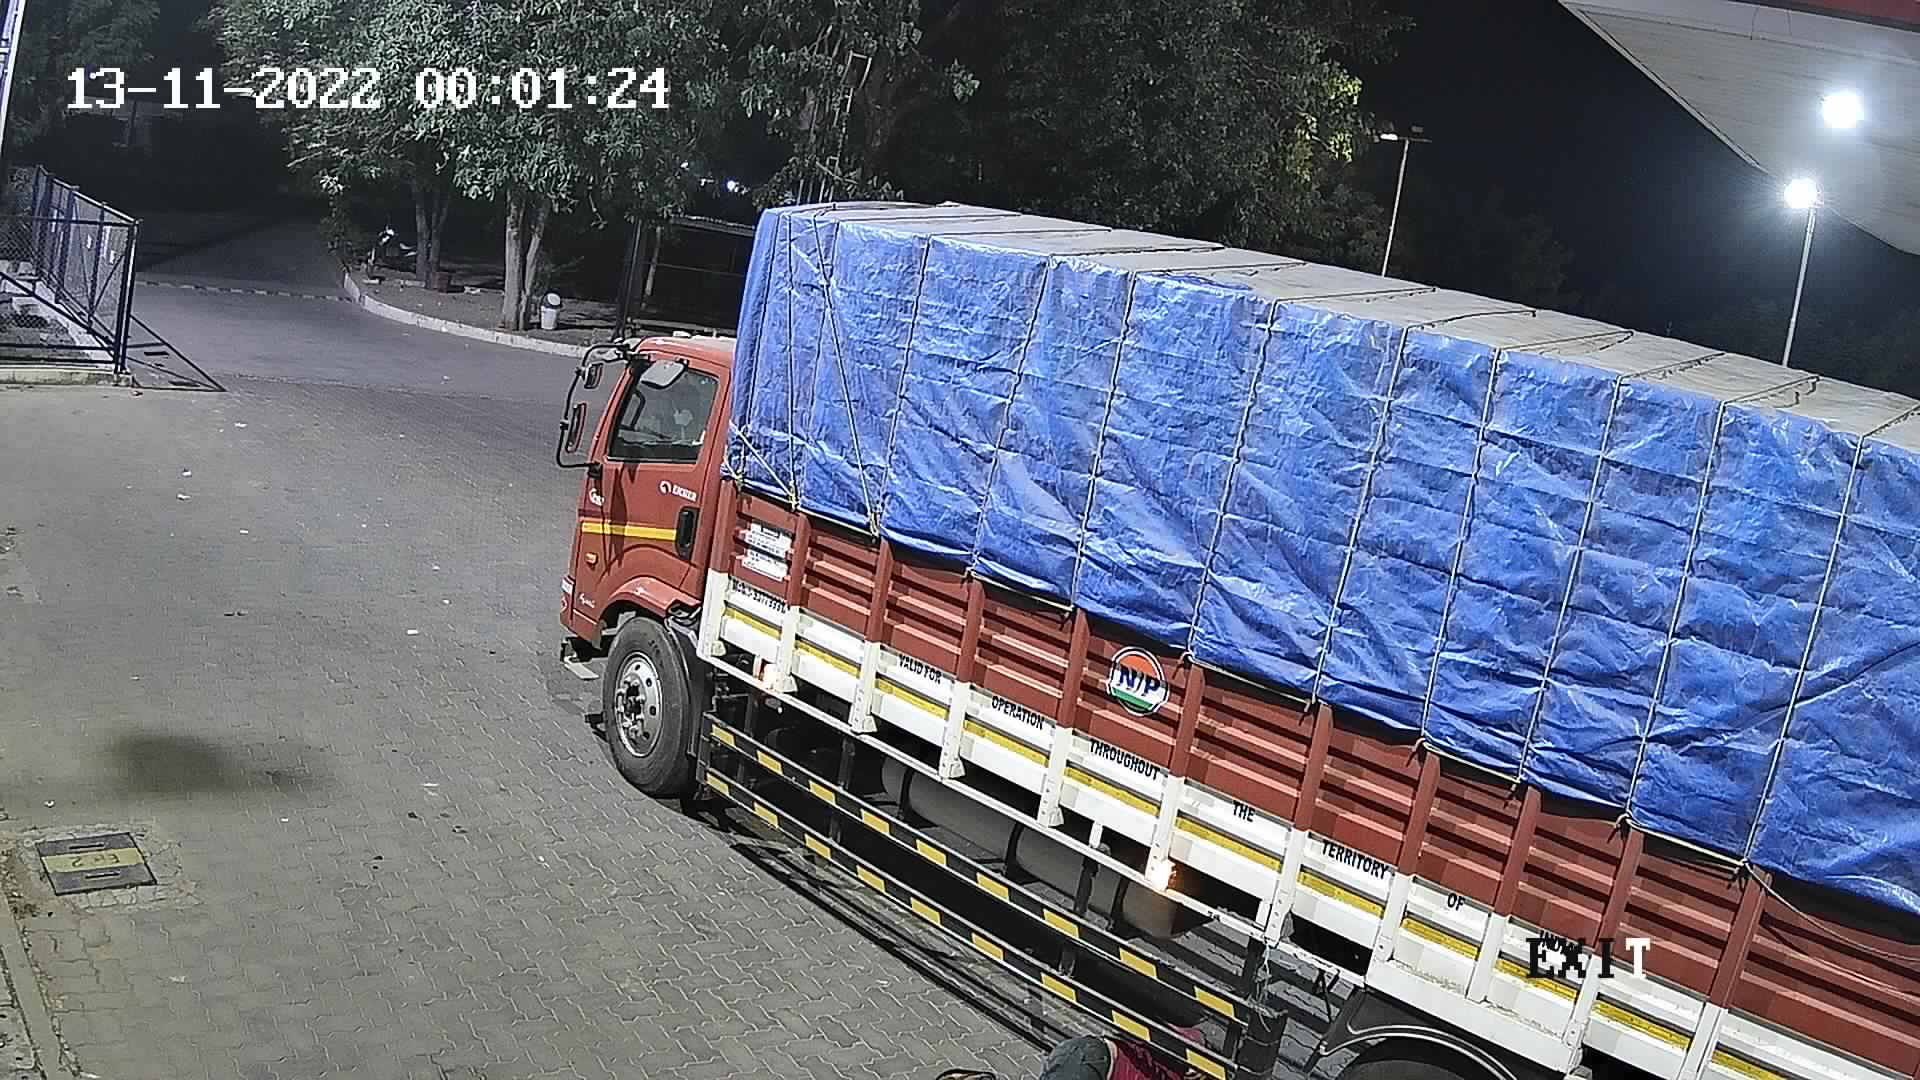Bike: (353, 214, 422, 280)
HMV: (541, 182, 1917, 1076)
